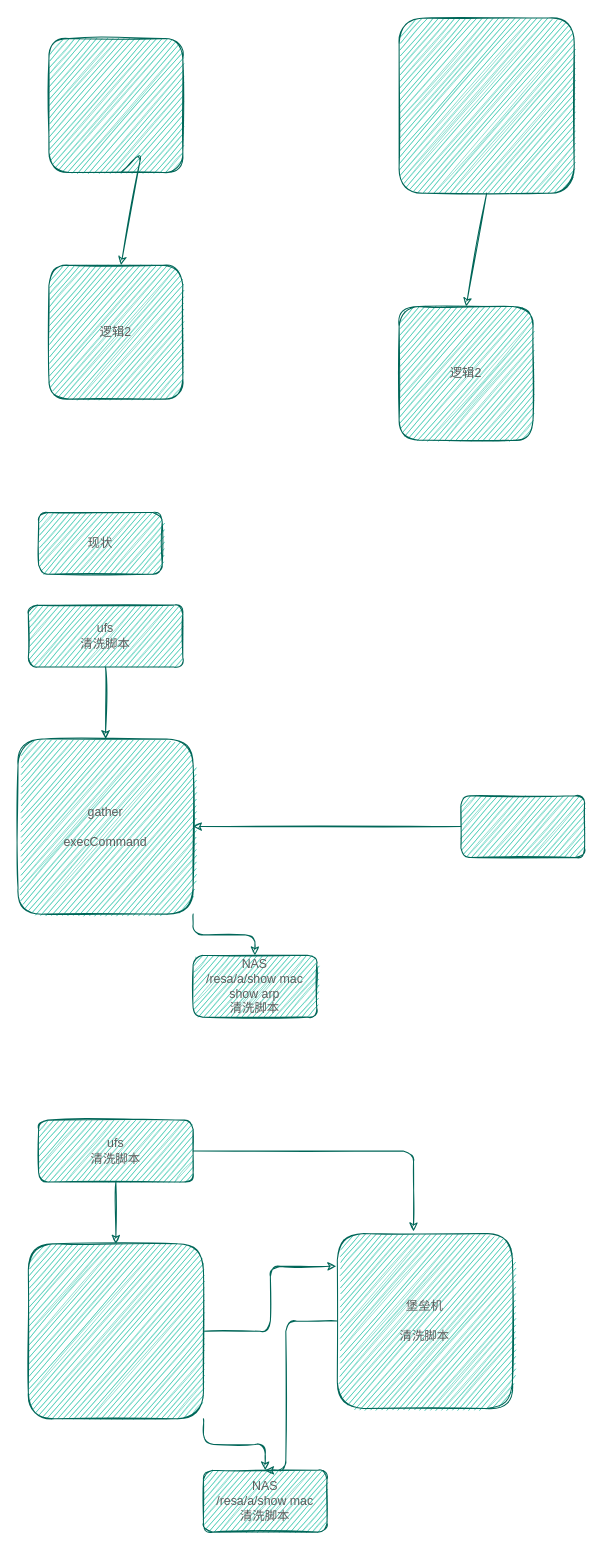
This 603x1550 diagram has some shape labels left out. The shapes that lost their labels are listed below. From the top down, each one's box as (x1, y1, x2, y2) in pixels, then its label:
(48, 38, 183, 173): 逻辑1
(398, 17, 574, 193): 逻辑1 callback 逻辑2
(460, 795, 585, 857): 监管代理
(27, 1243, 203, 1419): gather
